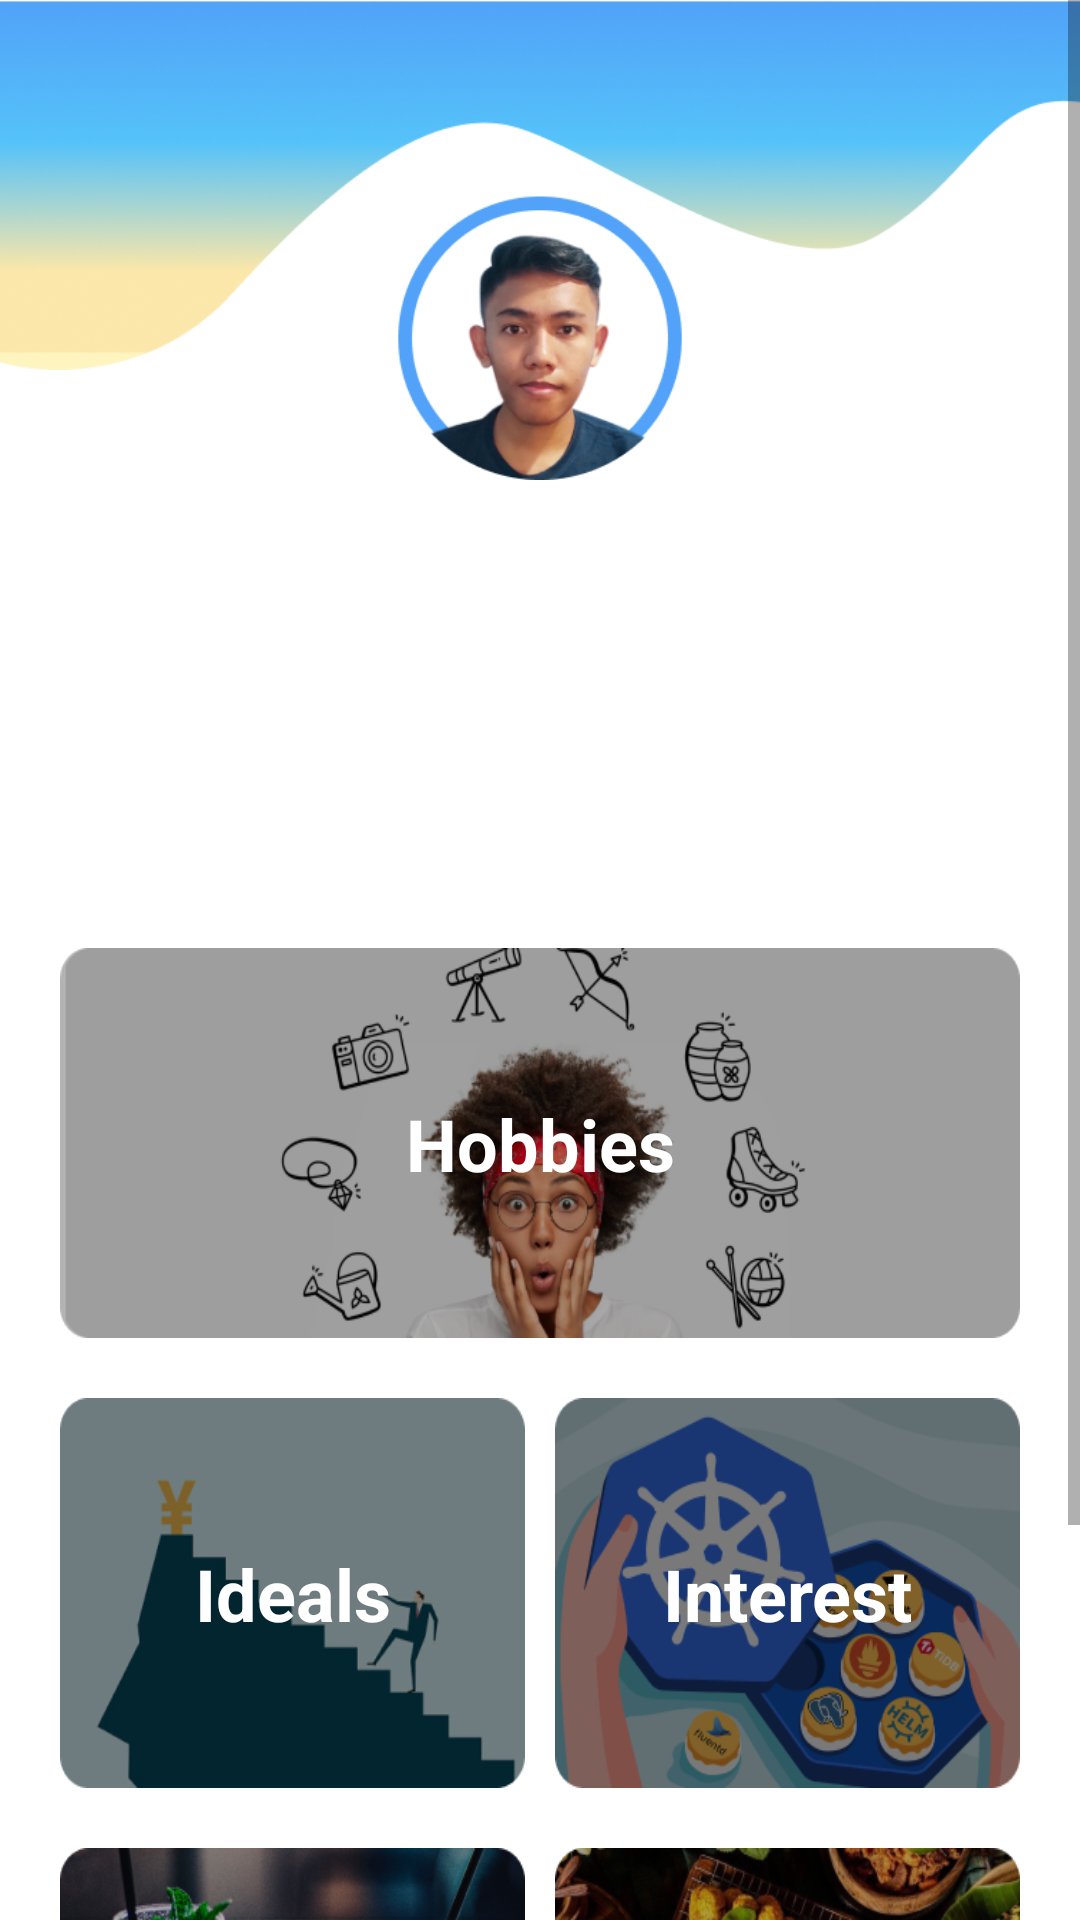

Point at icon controls on the screen. Image size 1080 × 1920, points as (x=x, y=y).
photo: (x=540, y=338)
